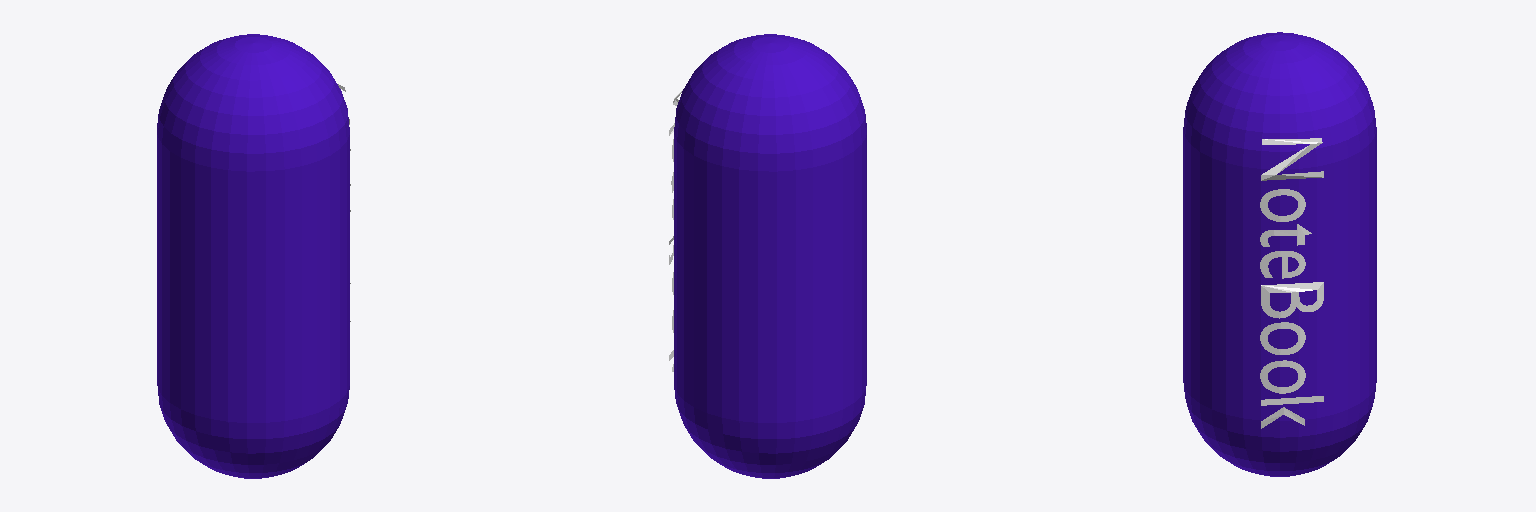
File: notebook.obj
The picture shows the model from 3 angles: view 1: azimuth 30°, elevation 25°; view 2: azimuth 150°, elevation 25°; view 3: azimuth 270°, elevation 25°; orthographic projection.
Visible parts, largest first — view 1: Sphere; view 2: Sphere; view 3: Sphere, Text.
Part boxes in pixels (left/top/right/bottom): Sphere: left=157, top=34, right=349, bottom=478; Sphere: left=674, top=34, right=866, bottom=478; Sphere: left=1183, top=32, right=1376, bottom=476; Text: left=1260, top=138, right=1323, bottom=428.
Bounding box in the file's own units: 2.06 × 4.87 × 2.